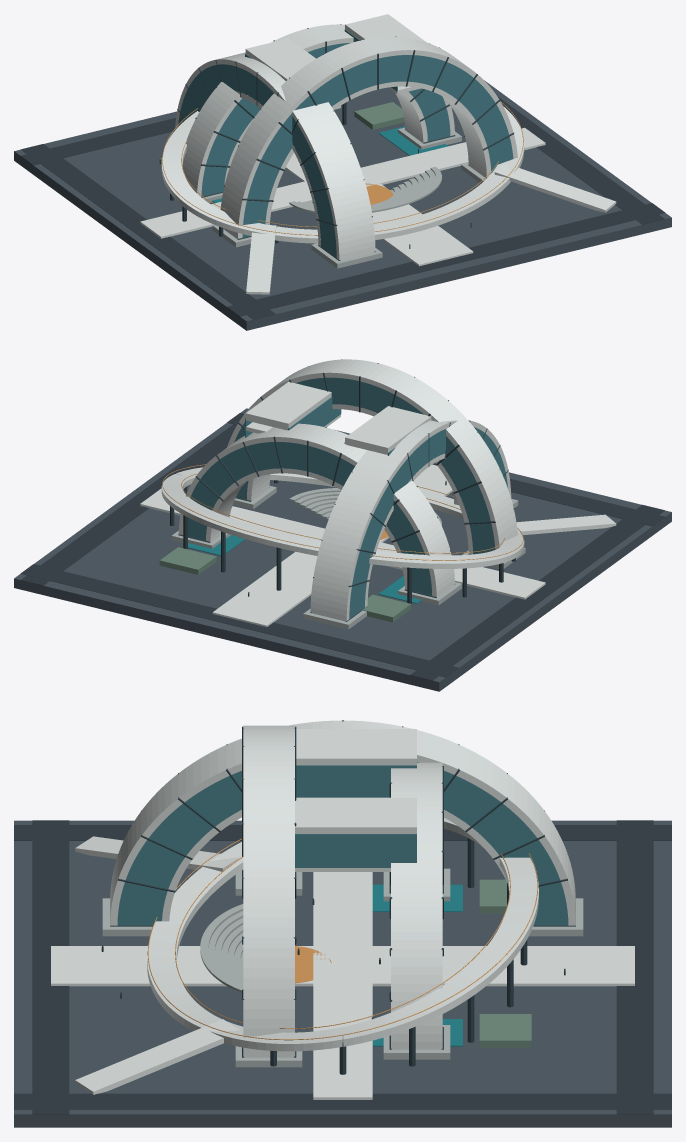
Rendered from a5_orbital_commons.glb.
3 views of the same model, one above another, from view 1: azimuth 30°, elevation 25°; view 2: azimuth 150°, elevation 25°; view 3: azimuth 270°, elevation 25° (orthographic). The views are drawn at different scales.
Parts seen in each view (by area): view 1: District base, SOUTH continuous glazed occupied band, SOUTH outer load shell, TRANSVERSE outer load shell, Continuous elliptical public promenade, E-W road, Public ground, continuous E-W axis, N-S road, TRANSVERSE glazed occupied band.001, NORTH outer load shell, NORTH continuous glazed occupied band, Public ground, continuous N-S axis (+12 smaller); view 2: District base, TRANSVERSE outer load shell, SOUTH outer load shell, Continuous elliptical public promenade, NORTH continuous glazed occupied band.001, E-W road.001, NORTH outer load shell, Public ground, continuous N-S axis, SOUTH continuous glazed occupied band.001, N-S road, Public ground, continuous E-W axis, N-S road.001 (+12 smaller); view 3: District base, SOUTH outer load shell, Continuous elliptical public promenade, TRANSVERSE glazed occupied band, Public ground, continuous E-W axis, Public ground, continuous N-S axis, NORTH outer load shell, TRANSVERSE outer load shell, E-W road, E-W road.001, N-S road.001, Sky chamber crown.001 (+16 smaller).
Boxes of the visible parts, x1,y1,x2,y2 form: District base: (14, 47, 671, 330); SOUTH continuous glazed occupied band: (242, 55, 513, 237); SOUTH outer load shell: (220, 36, 517, 238); TRANSVERSE outer load shell: (175, 52, 375, 260); Continuous elliptical public promenade: (161, 106, 524, 243); E-W road: (227, 203, 665, 316); Public ground, continuous E-W axis: (140, 127, 545, 238); N-S road: (21, 144, 275, 319); TRANSVERSE glazed occupied band.001: (178, 64, 336, 257); NORTH outer load shell: (182, 24, 454, 196); NORTH continuous glazed occupied band: (201, 43, 450, 196); Public ground, continuous N-S axis: (285, 153, 473, 266); District base: (14, 408, 671, 691); TRANSVERSE outer load shell: (310, 420, 511, 621); SOUTH outer load shell: (227, 359, 517, 549); Continuous elliptical public promenade: (161, 467, 524, 568); NORTH continuous glazed occupied band.001: (188, 442, 431, 595); E-W road.001: (20, 564, 458, 677); NORTH outer load shell: (178, 423, 454, 597); Public ground, continuous N-S axis: (212, 464, 452, 626); SOUTH continuous glazed occupied band.001: (234, 377, 495, 554); N-S road: (410, 504, 664, 680); Public ground, continuous E-W axis: (140, 488, 545, 599); N-S road.001: (21, 424, 236, 585); District base: (14, 820, 671, 1127); SOUTH outer load shell: (243, 725, 294, 1057); Continuous elliptical public promenade: (147, 817, 538, 1051); TRANSVERSE glazed occupied band: (117, 762, 568, 925); Public ground, continuous E-W axis: (313, 872, 372, 1099); Public ground, continuous N-S axis: (51, 946, 634, 986); NORTH outer load shell: (391, 762, 442, 1049); TRANSVERSE outer load shell: (110, 720, 575, 925); E-W road: (32, 820, 69, 1114); E-W road.001: (616, 820, 653, 1114); N-S road.001: (14, 1093, 671, 1109); Sky chamber crown.001: (295, 797, 416, 833).
Size of the model in its own units: 188 by 70 by 178.
